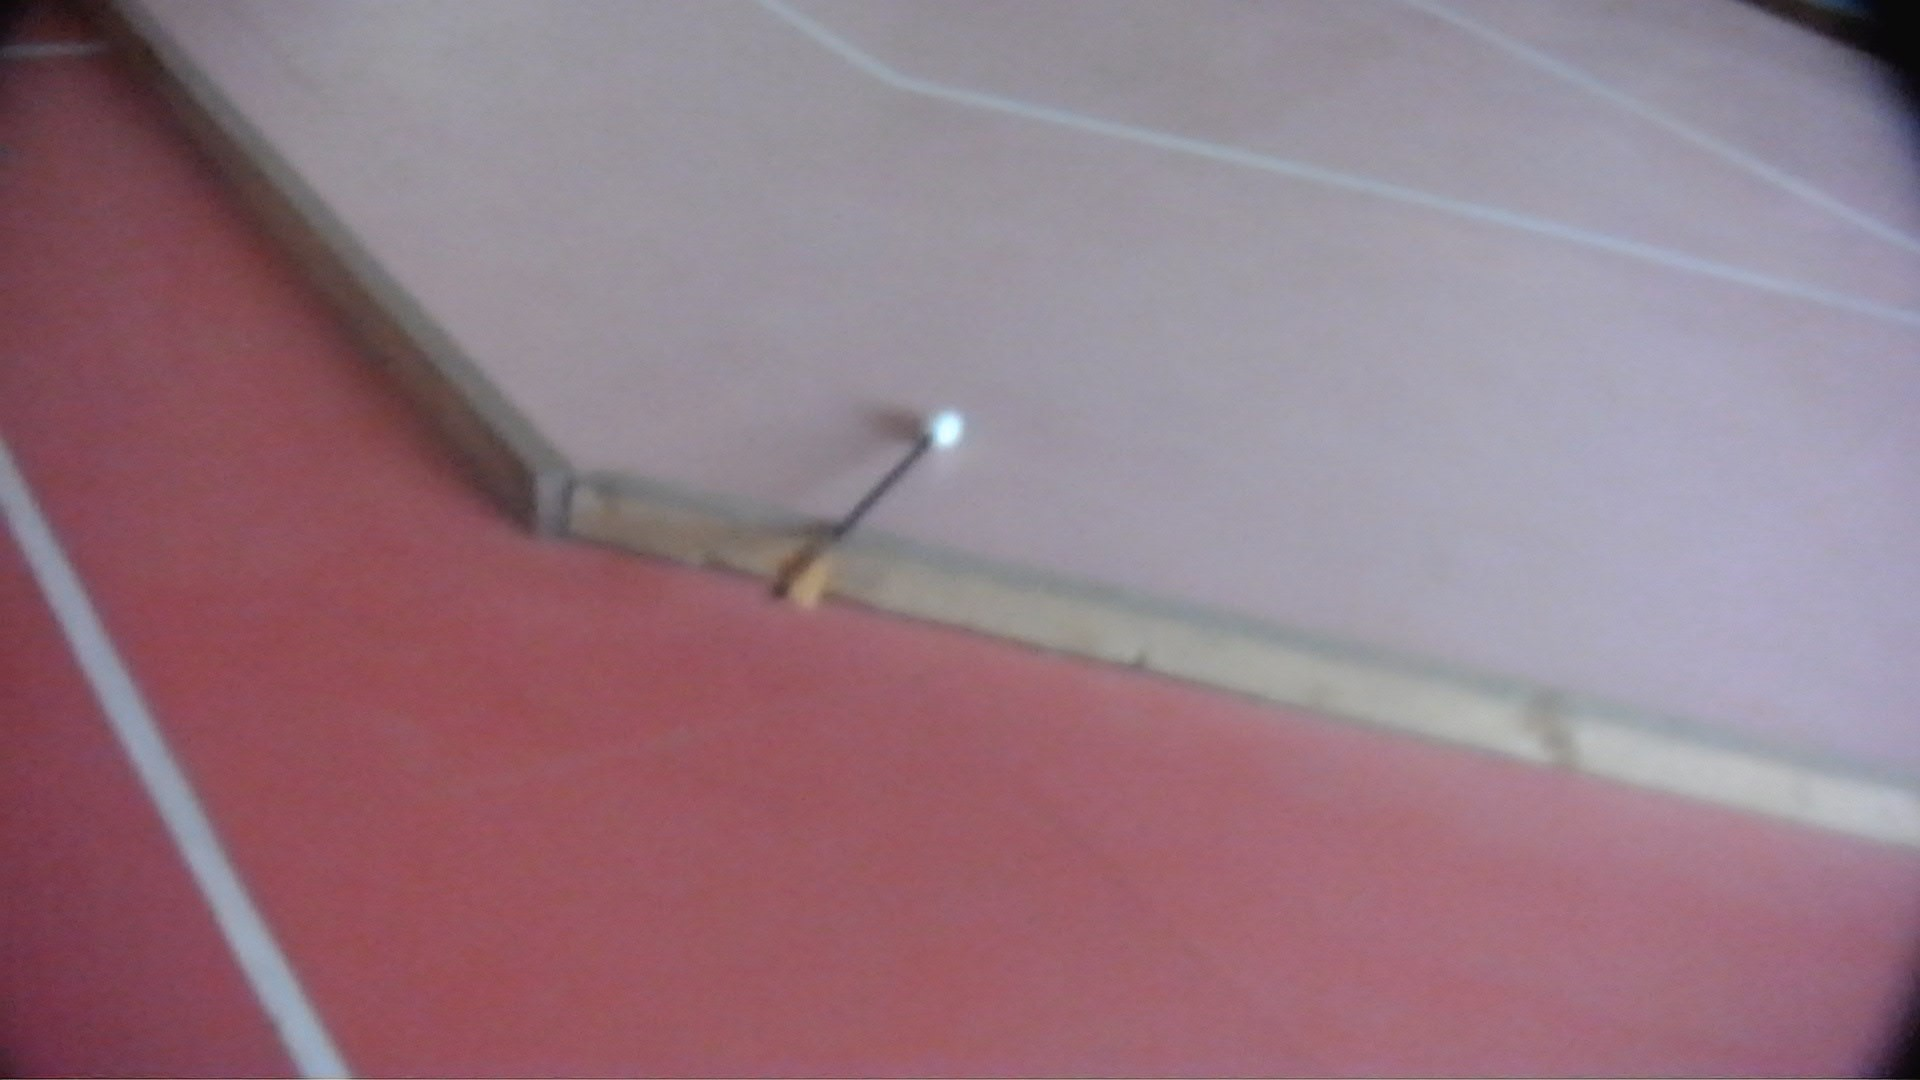arrow: (770, 409, 968, 615)
arrowFront: (920, 409, 968, 452)
